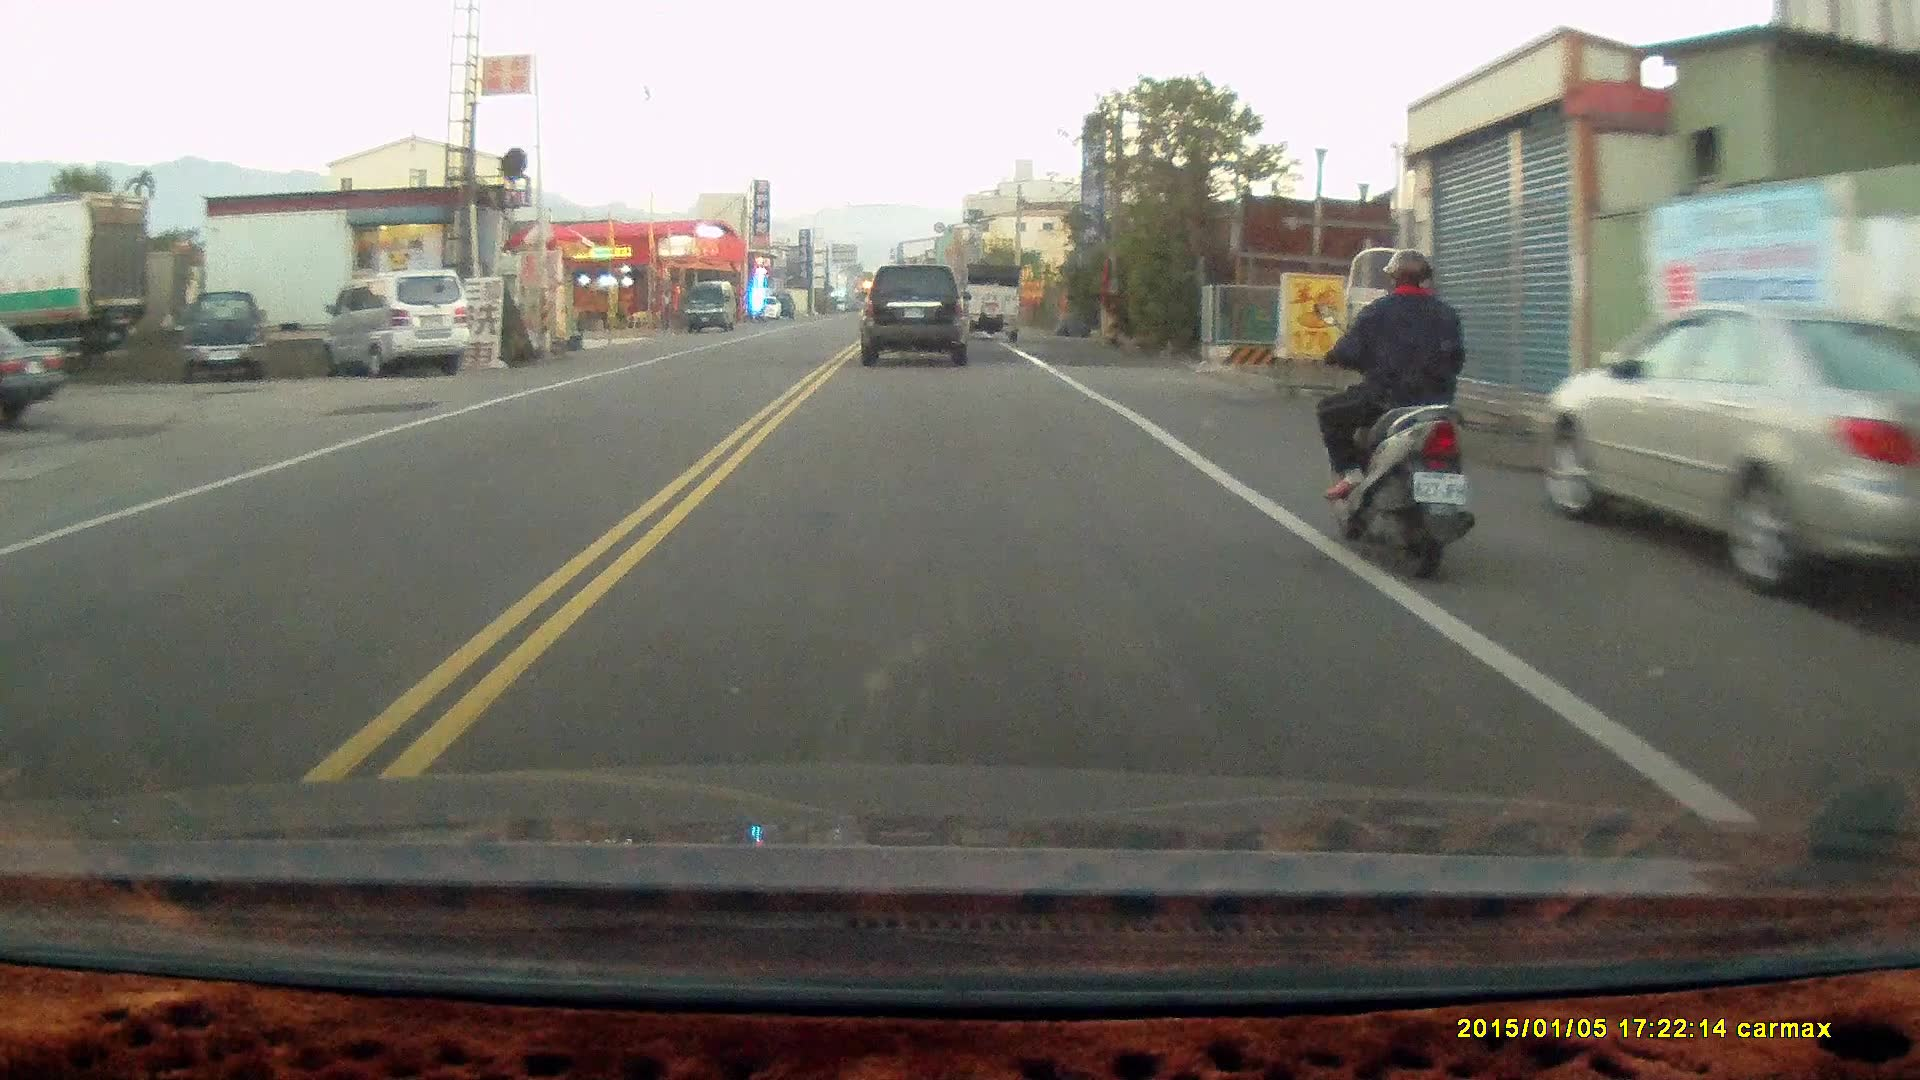rider: (1315, 247, 1477, 585)
vehicle: (1541, 300, 1920, 596), (325, 269, 472, 380), (858, 264, 976, 371), (180, 290, 268, 387), (1, 314, 68, 430), (962, 264, 1023, 341), (684, 283, 738, 335)
